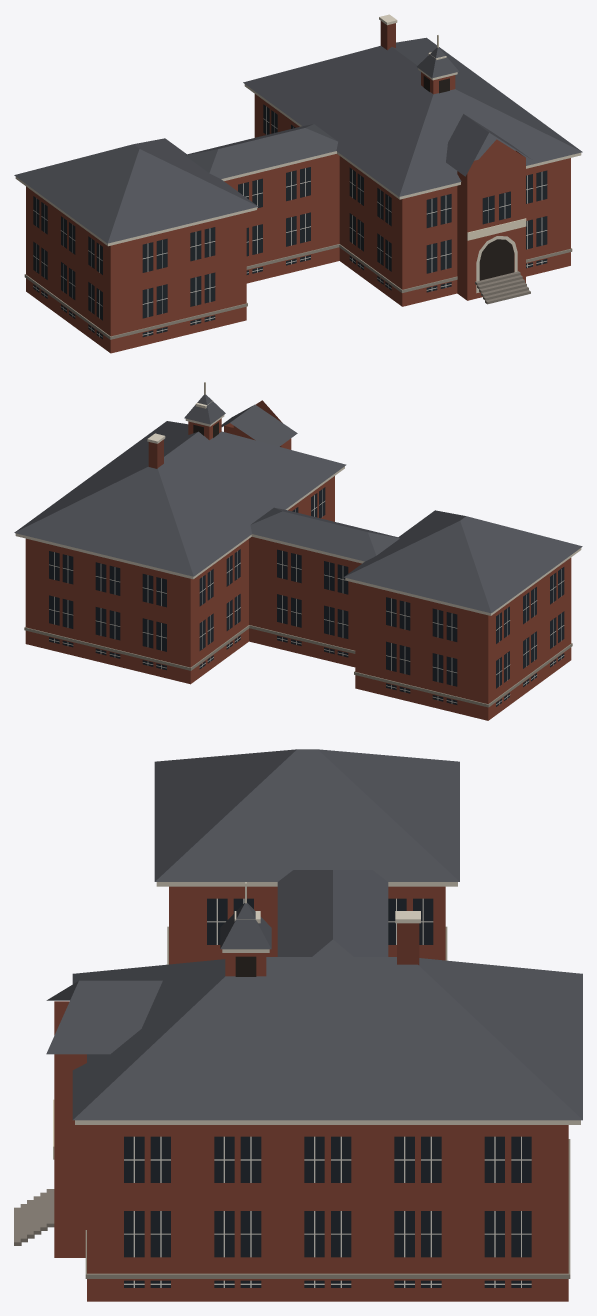
The model's file is centennial-school-1913.glb.
3 views of the same model, one above another, from view 1: azimuth 30°, elevation 25°; view 2: azimuth 150°, elevation 25°; view 3: azimuth 270°, elevation 25° (orthographic). The views are drawn at different scales.
Visible parts, largest first — view 1: centennial_brick, centennial_slate, centennial_glass, centennial_trim, centennial_sash, centennial_stone, centennial_dark, centennial_base, centennial_cream; view 2: centennial_brick, centennial_slate, centennial_glass, centennial_sash, centennial_trim, centennial_stone; view 3: centennial_slate, centennial_brick, centennial_glass, centennial_trim, centennial_stone, centennial_sash, centennial_base, centennial_brick2.
Part boxes in pixels (bbox=[...]): centennial_brick: bbox=[26, 72, 570, 353]; centennial_slate: bbox=[14, 37, 582, 243]; centennial_glass: bbox=[33, 104, 547, 339]; centennial_trim: bbox=[15, 14, 581, 293]; centennial_sash: bbox=[33, 106, 547, 337]; centennial_stone: bbox=[24, 244, 572, 339]; centennial_dark: bbox=[423, 75, 514, 280]; centennial_base: bbox=[475, 271, 530, 304]; centennial_cream: bbox=[467, 218, 526, 240]; centennial_brick: bbox=[25, 400, 571, 720]; centennial_slate: bbox=[14, 394, 582, 613]; centennial_glass: bbox=[49, 487, 564, 706]; centennial_sash: bbox=[49, 489, 564, 704]; centennial_trim: bbox=[15, 382, 581, 615]; centennial_stone: bbox=[24, 625, 572, 707]; centennial_slate: bbox=[46, 749, 582, 1120]; centennial_brick: bbox=[54, 886, 568, 1301]; centennial_glass: bbox=[124, 898, 531, 1287]; centennial_trim: bbox=[75, 882, 580, 1124]; centennial_stone: bbox=[85, 926, 570, 1278]; centennial_sash: bbox=[124, 898, 531, 1287]; centennial_base: bbox=[14, 1189, 54, 1245]; centennial_brick2: bbox=[397, 923, 419, 964].
Size of the model in its own units: 41.4 by 18.94 by 27.77.
